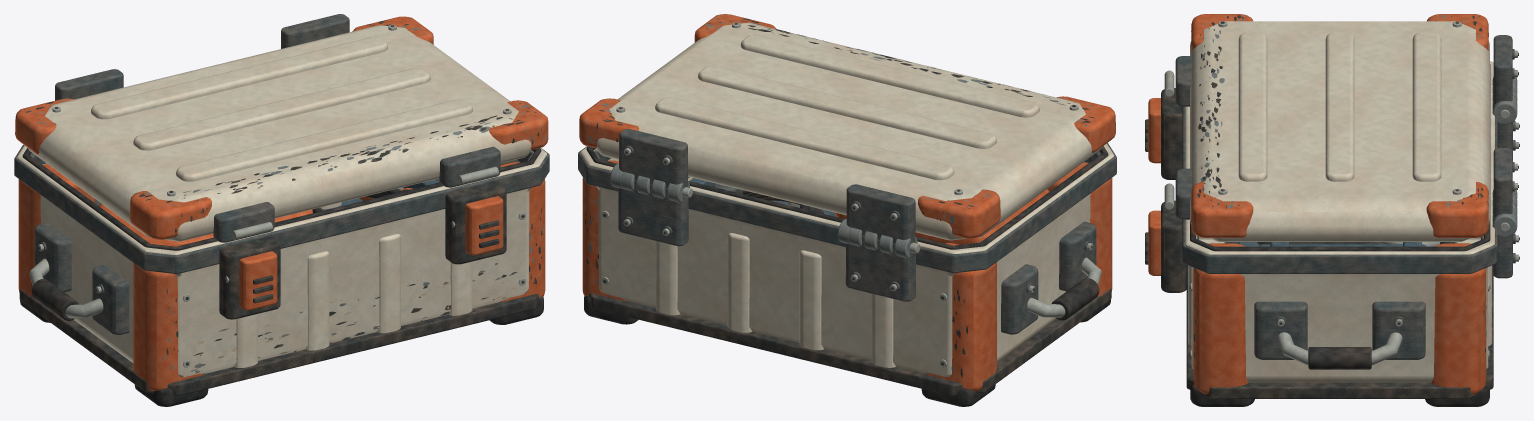
The model's file is fitout_crate_small.glb.
The picture shows the model from 3 angles, left to right: view 1: azimuth 30°, elevation 25°; view 2: azimuth 150°, elevation 25°; view 3: azimuth 270°, elevation 25°; orthographic projection. The views are drawn at different scales.
Visible parts, largest first — view 1: Lid_rover_white, FitoutCrateSmall_rover_white, FitoutCrateSmall_graphite, FitoutCrateSmall_orange, FitoutCrateSmall_dark_alloy, Lid_orange, Lid_dark_alloy, FitoutCrateSmall_black_rubber, Lid_graphite, FitoutCrateSmall_satin_steel, Lid_satin_steel, WorkLight_orange (+2 smaller); view 2: Lid_rover_white, FitoutCrateSmall_rover_white, FitoutCrateSmall_dark_alloy, FitoutCrateSmall_orange, FitoutCrateSmall_graphite, Lid_orange, Lid_dark_alloy, FitoutCrateSmall_black_rubber, FitoutCrateSmall_alloy, FitoutCrateSmall_satin_steel, Lid_alloy, Lid_graphite (+1 smaller); view 3: Lid_rover_white, FitoutCrateSmall_rover_white, FitoutCrateSmall_orange, FitoutCrateSmall_dark_alloy, FitoutCrateSmall_graphite, Lid_orange, FitoutCrateSmall_black_rubber, Lid_dark_alloy, FitoutCrateSmall_satin_steel, FitoutCrateSmall_alloy, Lid_graphite, Lid_satin_steel (+2 smaller).
Part boxes in pixels (box(x1,y1,x2,y2)): Lid_rover_white: box(27, 25, 531, 241); FitoutCrateSmall_rover_white: box(17, 145, 546, 377); FitoutCrateSmall_graphite: box(19, 181, 542, 395); FitoutCrateSmall_orange: box(18, 162, 545, 390); FitoutCrateSmall_dark_alloy: box(14, 144, 549, 334); Lid_orange: box(15, 16, 548, 239); Lid_dark_alloy: box(55, 14, 500, 242); FitoutCrateSmall_black_rubber: box(20, 148, 543, 406); Lid_graphite: box(24, 20, 541, 236); FitoutCrateSmall_satin_steel: box(29, 212, 526, 367); Lid_satin_steel: box(52, 24, 511, 239); WorkLight_orange: box(99, 203, 312, 245); Lid_rover_white: box(596, 22, 1103, 240); FitoutCrateSmall_rover_white: box(580, 143, 1114, 376); FitoutCrateSmall_dark_alloy: box(578, 143, 1116, 334); FitoutCrateSmall_orange: box(582, 160, 1112, 390); FitoutCrateSmall_graphite: box(585, 213, 1111, 395); Lid_orange: box(579, 14, 1115, 238); Lid_dark_alloy: box(619, 129, 915, 243); FitoutCrateSmall_black_rubber: box(584, 146, 1110, 406); FitoutCrateSmall_alloy: box(587, 163, 965, 372); FitoutCrateSmall_satin_steel: box(601, 187, 1101, 367); Lid_alloy: box(589, 15, 1099, 254); Lid_graphite: box(585, 18, 1095, 220); Lid_rover_white: box(1190, 21, 1489, 241); FitoutCrateSmall_rover_white: box(1185, 61, 1494, 382); FitoutCrateSmall_orange: box(1148, 98, 1486, 394); FitoutCrateSmall_dark_alloy: box(1182, 83, 1515, 359); FitoutCrateSmall_graphite: box(1145, 88, 1519, 398); Lid_orange: box(1191, 14, 1488, 237); FitoutCrateSmall_black_rubber: box(1190, 64, 1490, 406); Lid_dark_alloy: box(1175, 35, 1514, 219); FitoutCrateSmall_satin_steel: box(1190, 109, 1518, 365); FitoutCrateSmall_alloy: box(1194, 77, 1517, 339); Lid_graphite: box(1191, 15, 1518, 222); Lid_satin_steel: box(1164, 21, 1517, 209).
Size of the model in its own units: 0.584 by 0.242 by 0.3932.
Materials: 10 (9 with a texture image).
